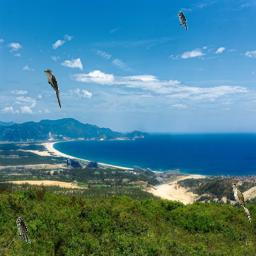Cuckoo: (231, 183, 251, 223), (44, 69, 61, 109)
Sparrow: (16, 217, 31, 244), (178, 11, 188, 30)
